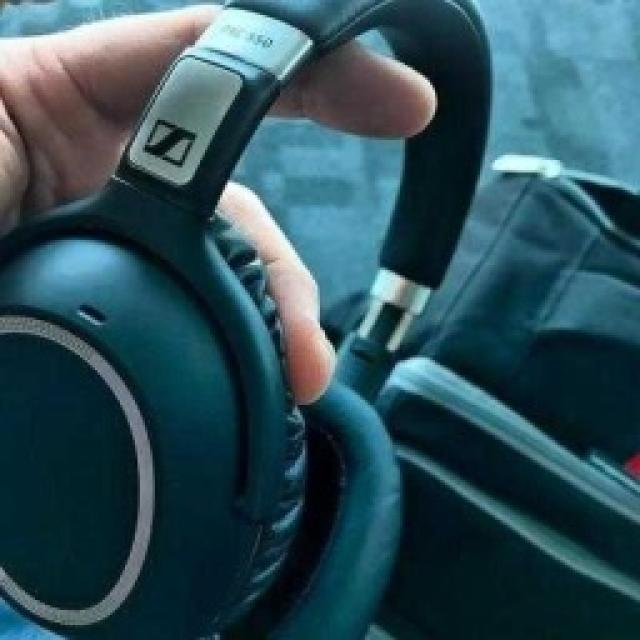headphones: (0, 0, 492, 637)
